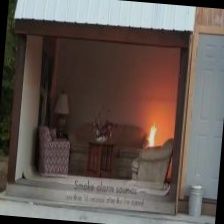fire: (146, 114, 163, 149)
